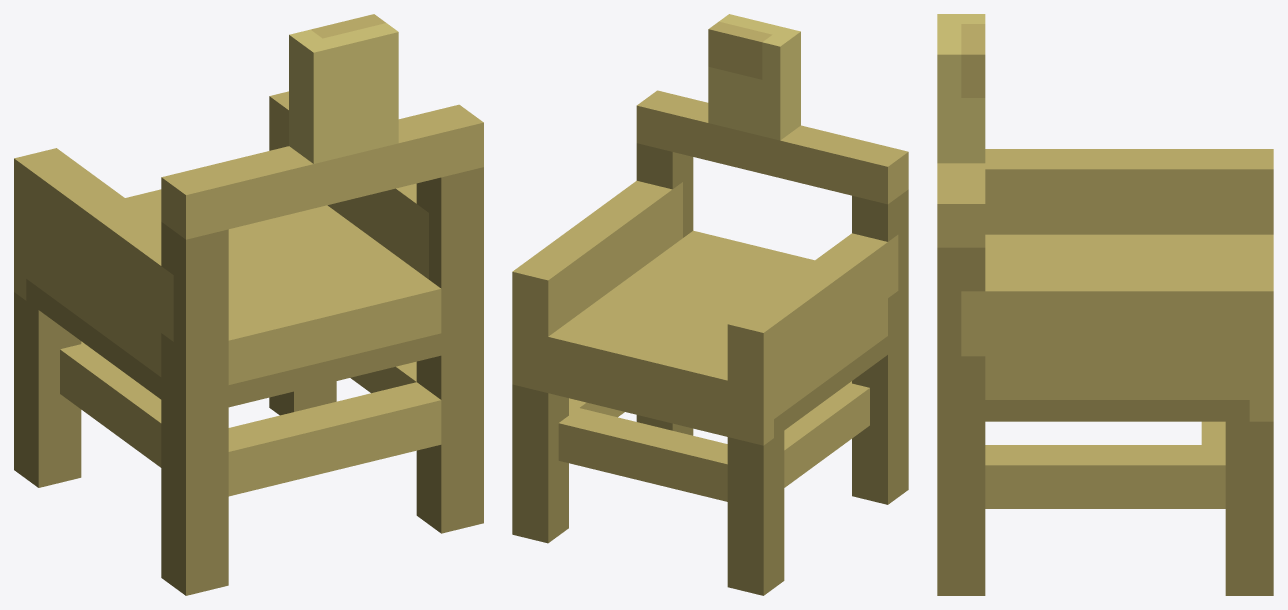
File: trono_oro_incrustado_01.glb
3 renders of one model, left to right at view 1: azimuth 30°, elevation 25°; view 2: azimuth 150°, elevation 25°; view 3: azimuth 270°, elevation 25°, orthographic. The views are drawn at different scales.
Parts seen in each view (by area): view 1: trono_oro_incrustado; view 2: trono_oro_incrustado; view 3: trono_oro_incrustado.
Boxes of the visible parts, box(x1,y1,x2,y2) form: trono_oro_incrustado: box(14, 14, 483, 595); trono_oro_incrustado: box(512, 14, 908, 595); trono_oro_incrustado: box(937, 14, 1273, 595).
Size of the model in its own units: 1 by 1.64 by 1.
